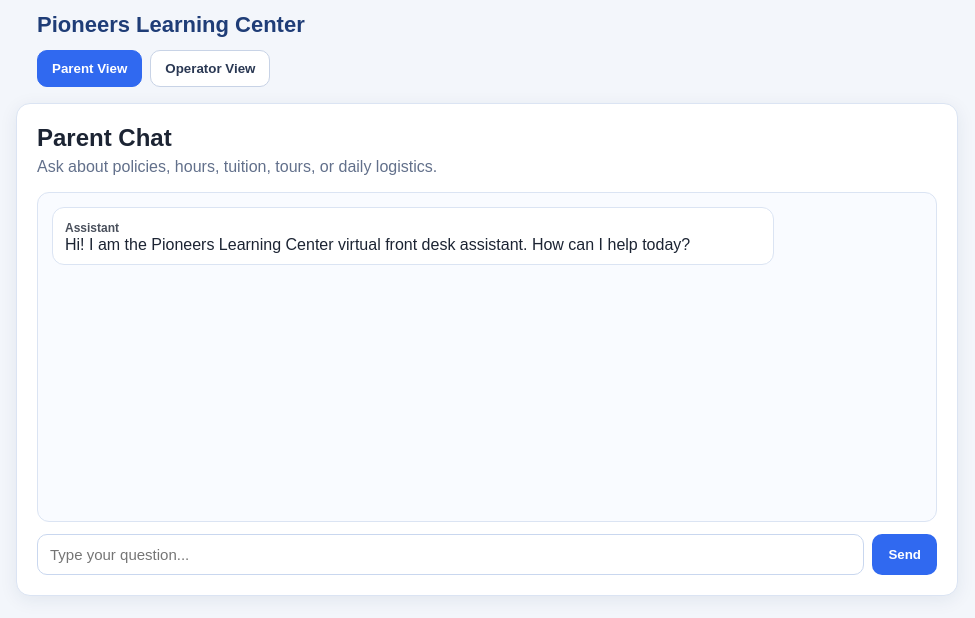
ParentView › badge count increments when a question is flagged
The width and height of the screenshot is (975, 618).
Type "mystery question" into the field with placeholder "Type your question..." at coordinates (451, 554), box x1=37 y1=534 x2=864 y2=575
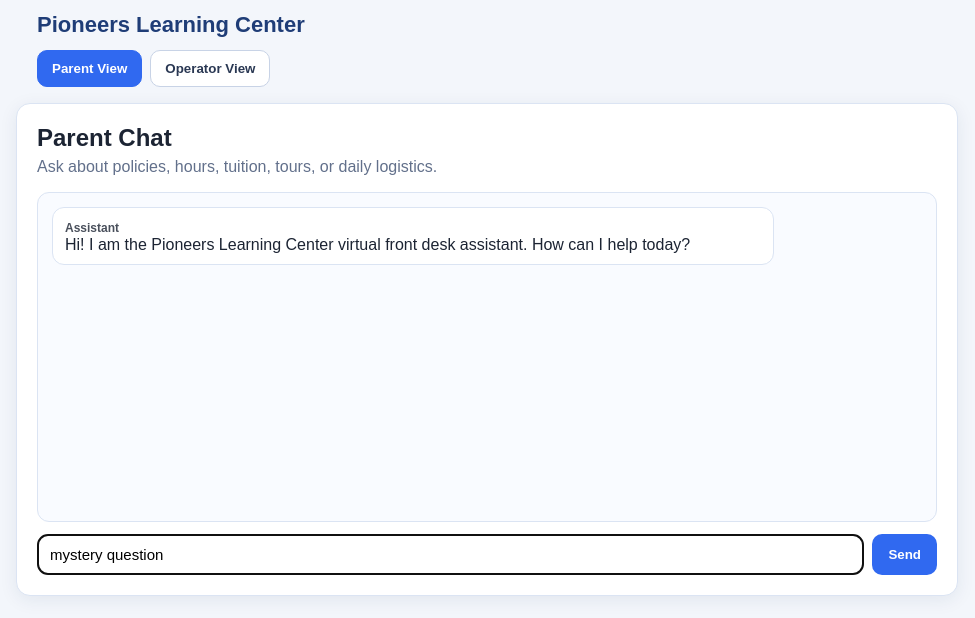
Submit the form with placeholder "type your question", box x1=37 y1=534 x2=937 y2=575
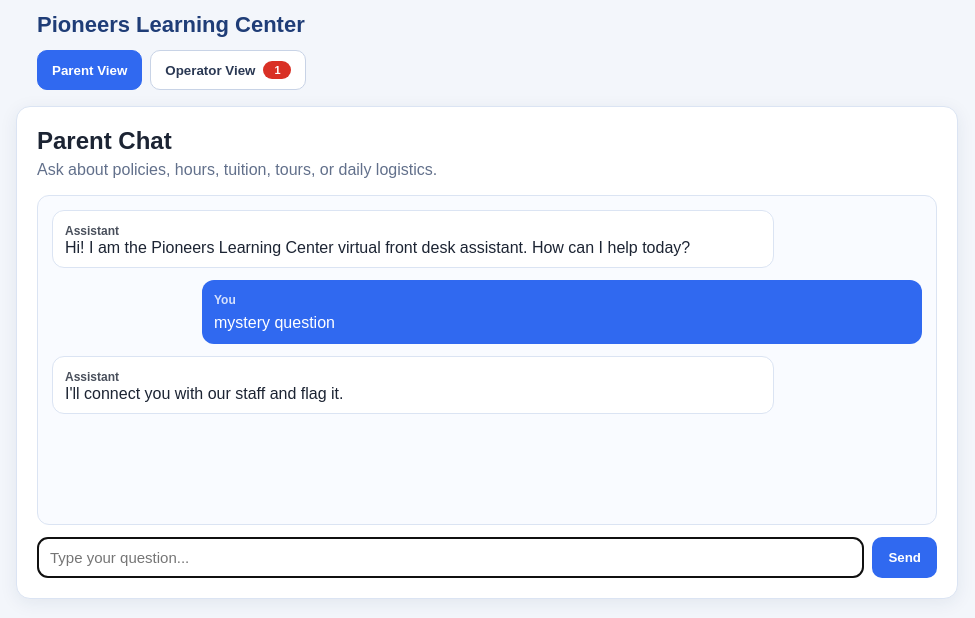
Expected: the text "1" is shown, x1=264 y1=61 x2=292 y2=79
